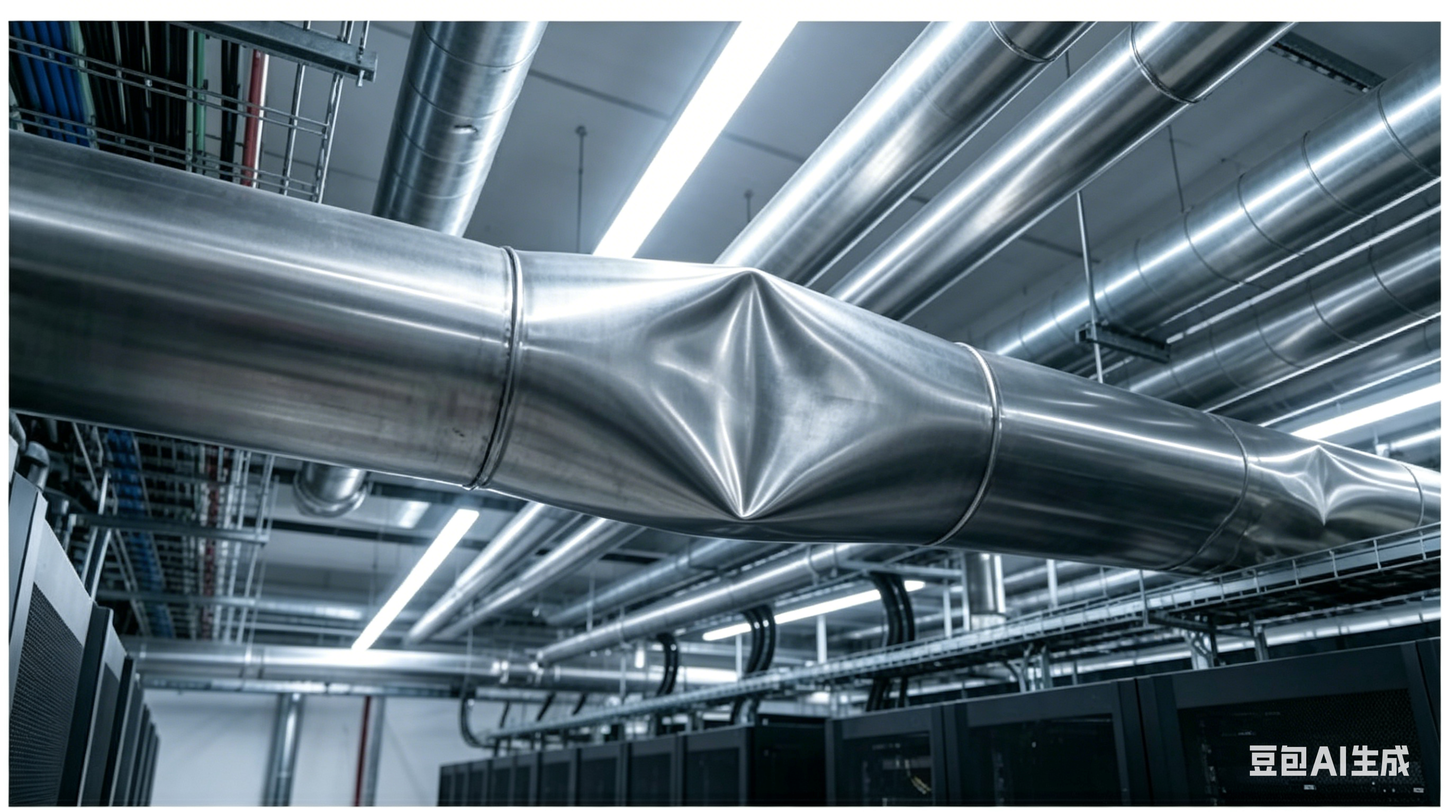Leakage: (567, 249, 956, 546), (1242, 436, 1407, 537)
